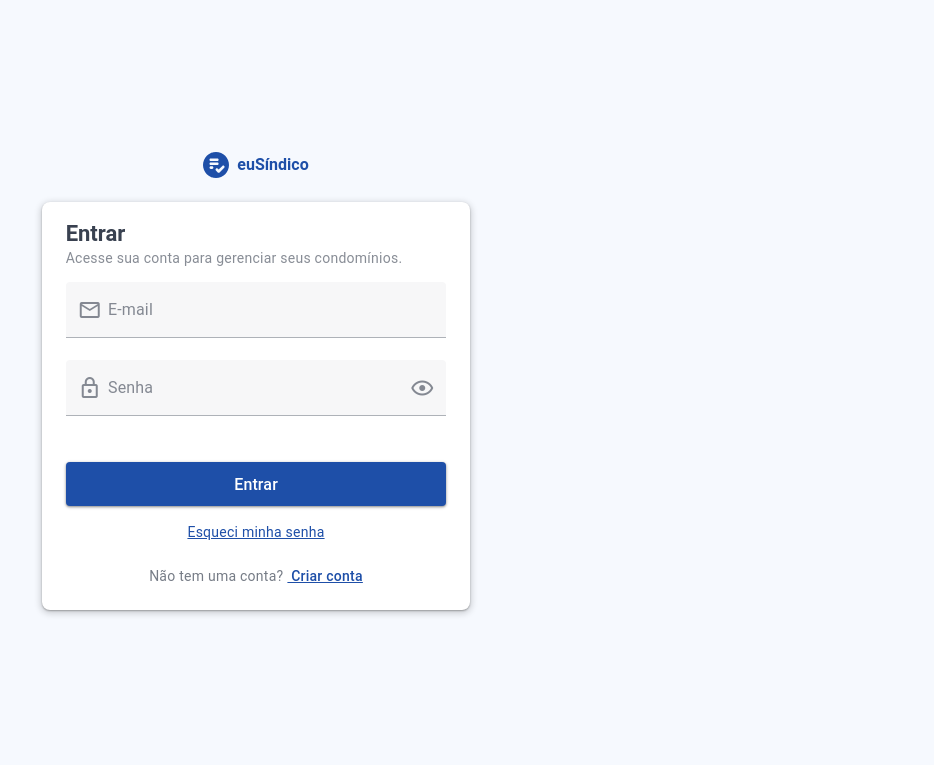
Test: Compromissos (RF12-RF17, RF34) › conclui um compromisso: anima, sai da lista e permite desfazer (RF17, RN23)
The image size is (934, 765).
Step 1. Type "sindico@exemplo.com" into the element with test id "email" → (257, 321), box [66,282,447,360]
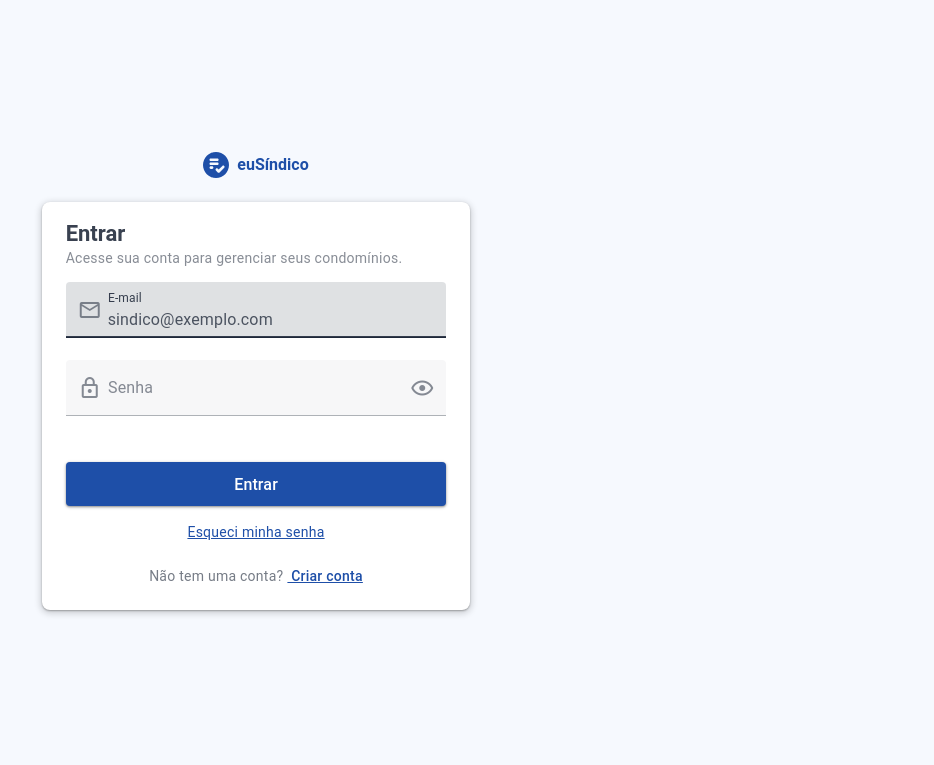
Step 2. Type "SenhaForte1!" into the element with test id "senha" → (257, 399), box [66,360,447,438]
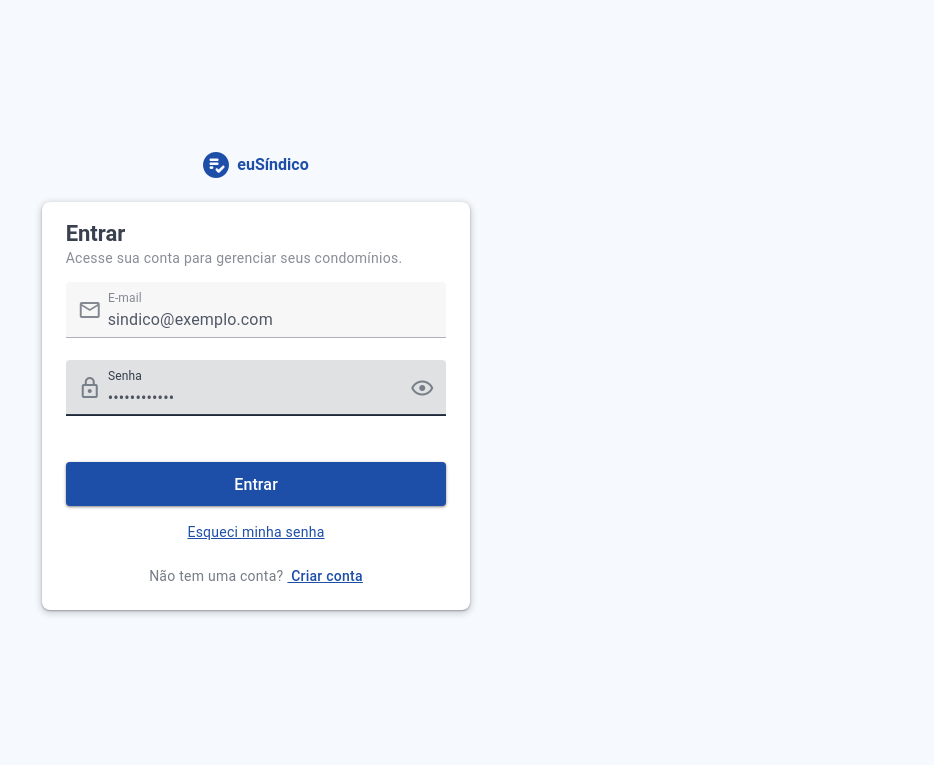
Step 3. Click the button with test id "btn-entrar" → (257, 484), box [66,462,447,506]
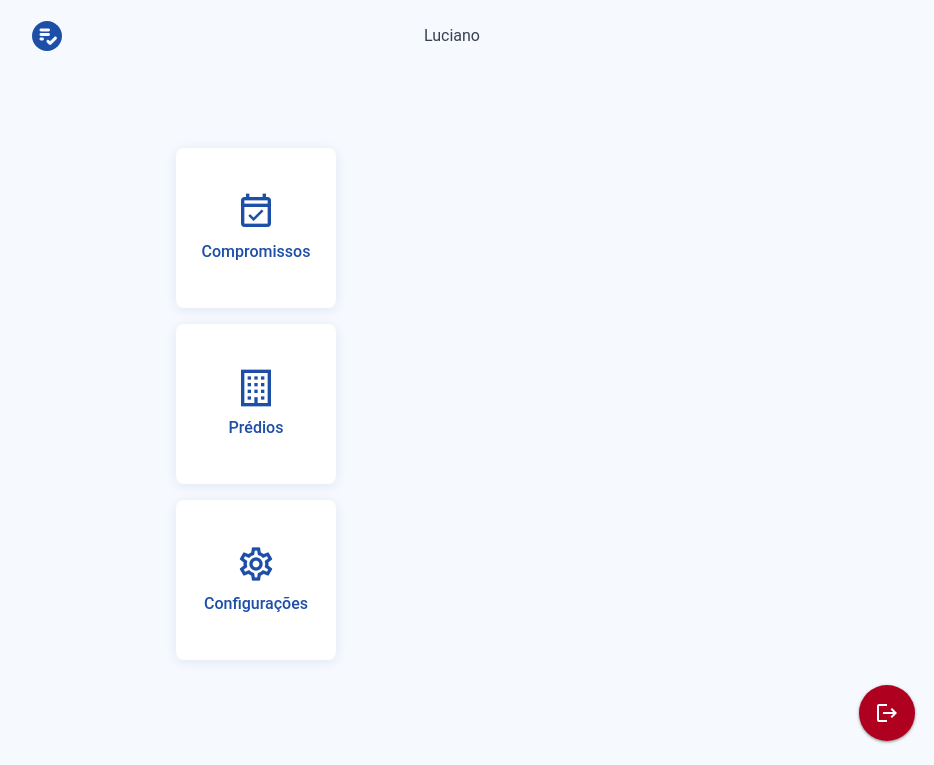
Step 4. Click the link with test id "card-compromissos" → (256, 228), box [176,148,336,308]
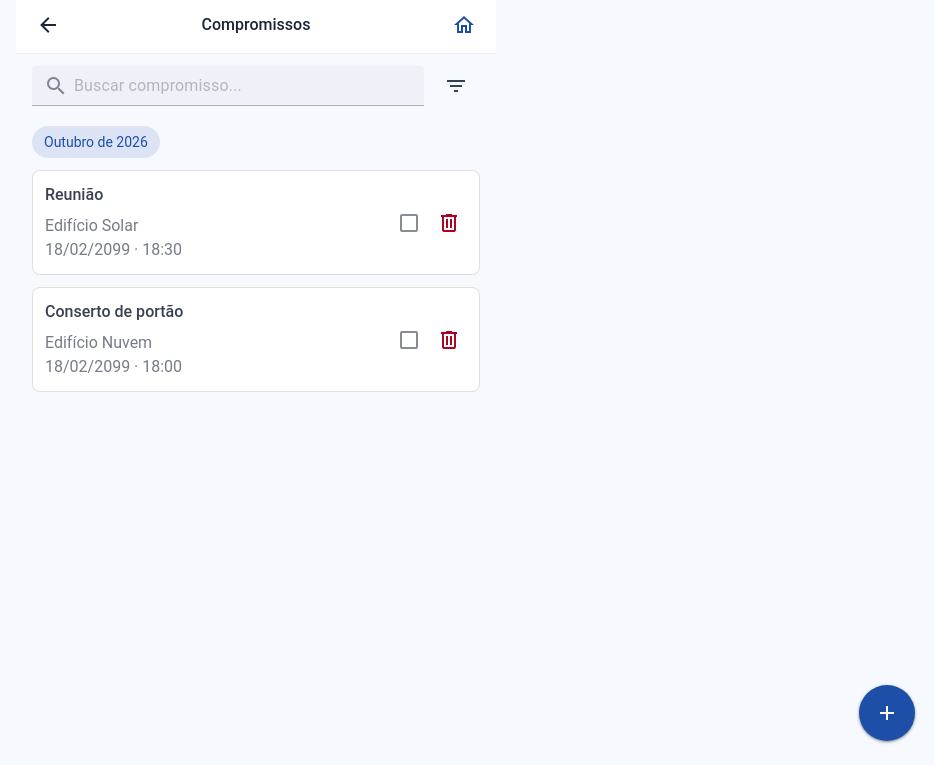
Step 5. Click the checkbox named "Marcar como concluído" → (413, 226), box [395,208,431,244]
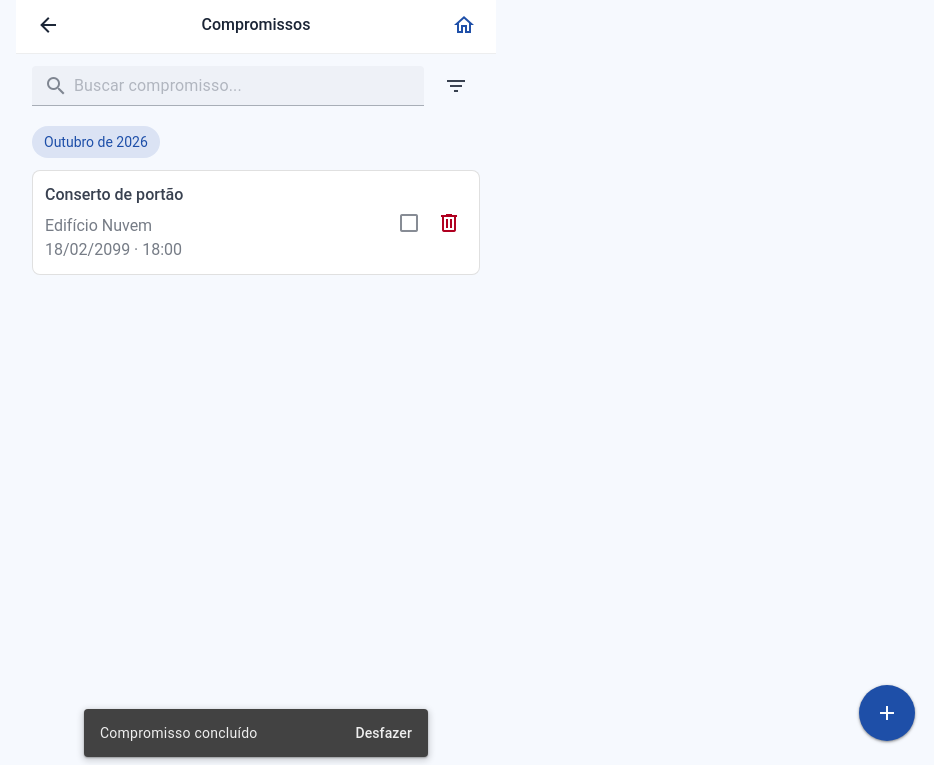
Expected: the element with test id "compromisso-item-12" is shown, [32,170,480,275]
Expected: the element with test id "compromisso-item-11" is gone
Expected: the message with test id "snackbar" reads "Compromisso concluído", [100,725,258,741]
Step 6. Click the button with test id "btn-desfazer" → (384, 733), box [347,715,420,751]
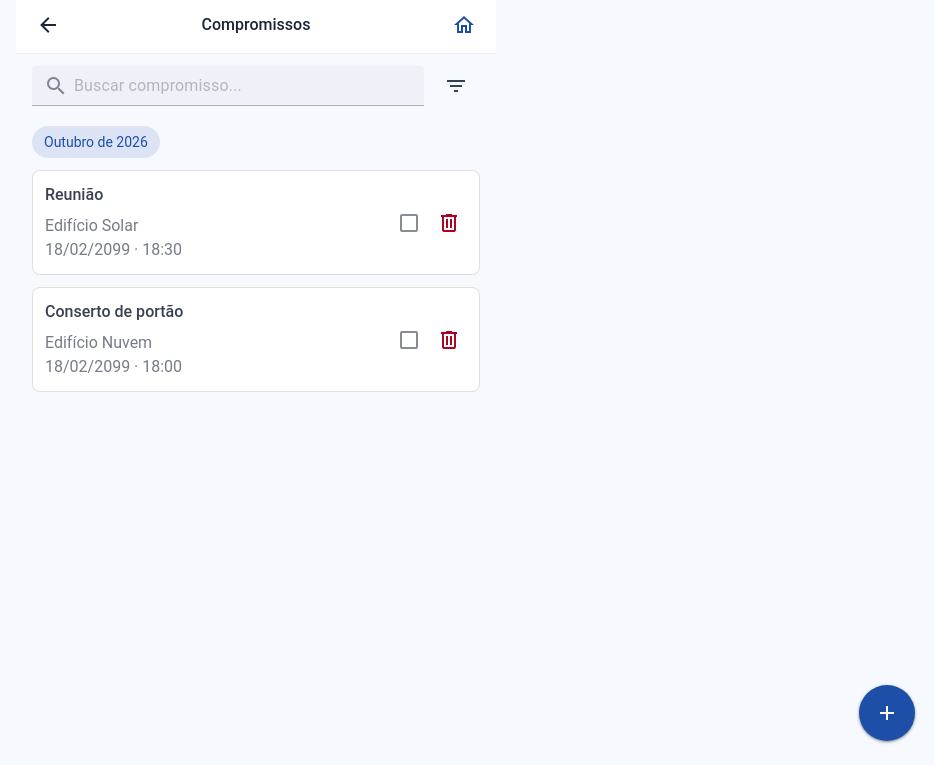
Expected: the element with test id "compromisso-item-11" is shown, [32,170,480,275]
